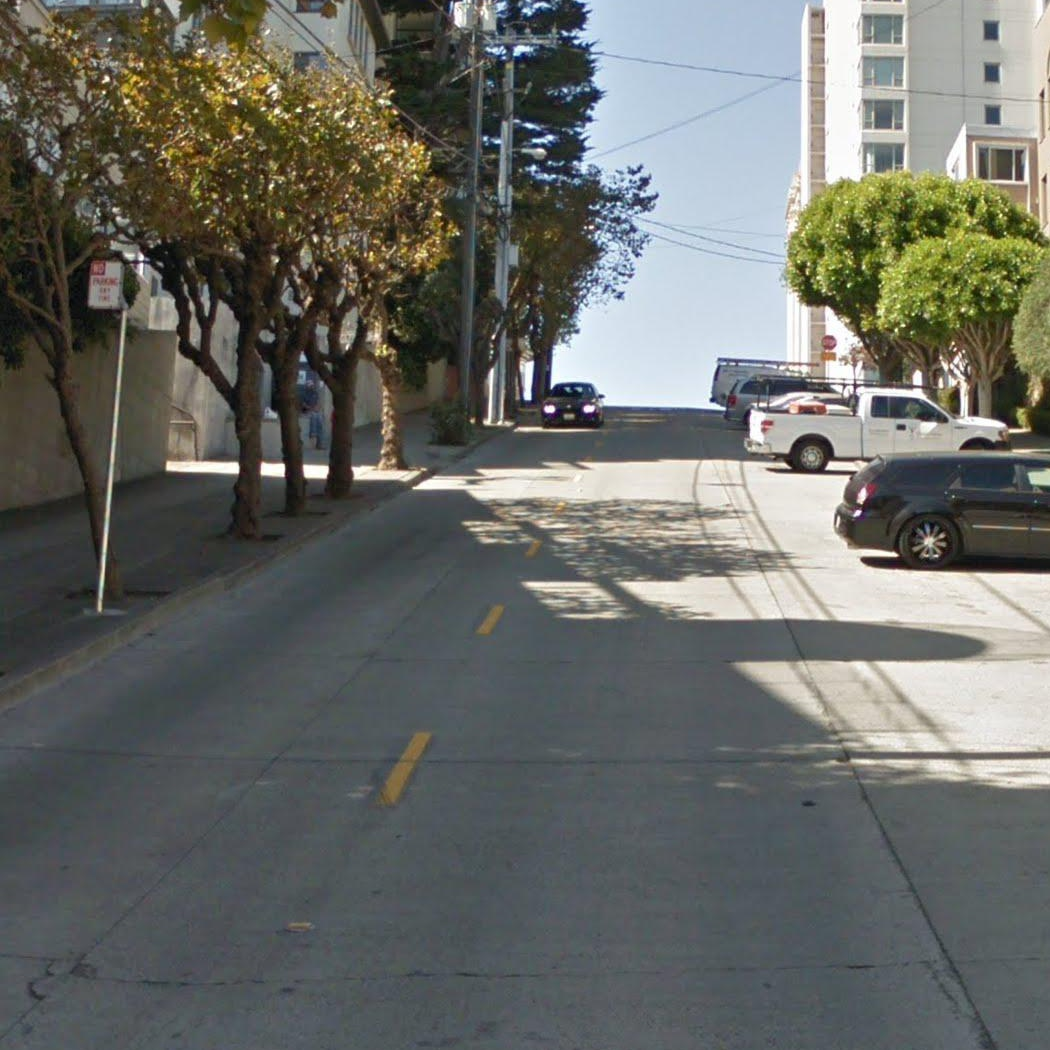No Parking Anytime: (86, 259, 123, 309)
